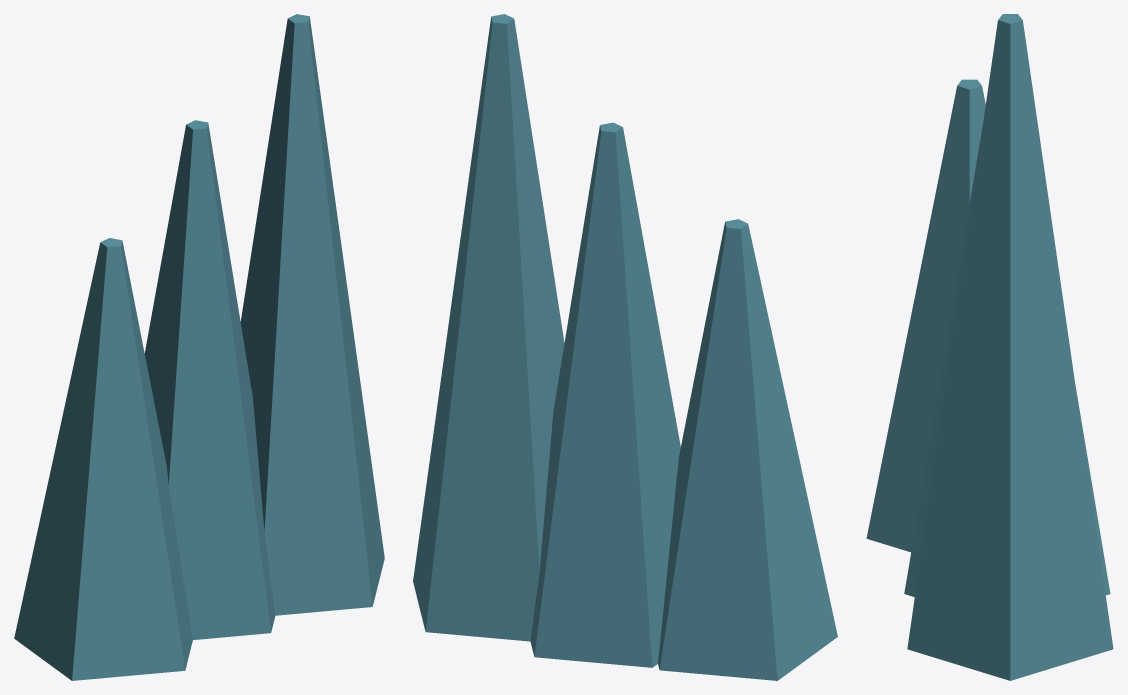
File: map-boundaries-v5__frost_01.glb
3 renders of one model, left to right at view 1: azimuth 30°, elevation 25°; view 2: azimuth 150°, elevation 25°; view 3: azimuth 270°, elevation 25°, orthographic. The views are drawn at different scales.
Visible parts, largest first — view 1: frost_01; view 2: frost_01; view 3: frost_01.
Part boxes in pixels (bbox=[...]): frost_01: bbox=[14, 14, 384, 680]; frost_01: bbox=[413, 14, 837, 680]; frost_01: bbox=[866, 14, 1113, 680].
Size of the model in its own units: 1.22 by 1.82 by 0.6608.
